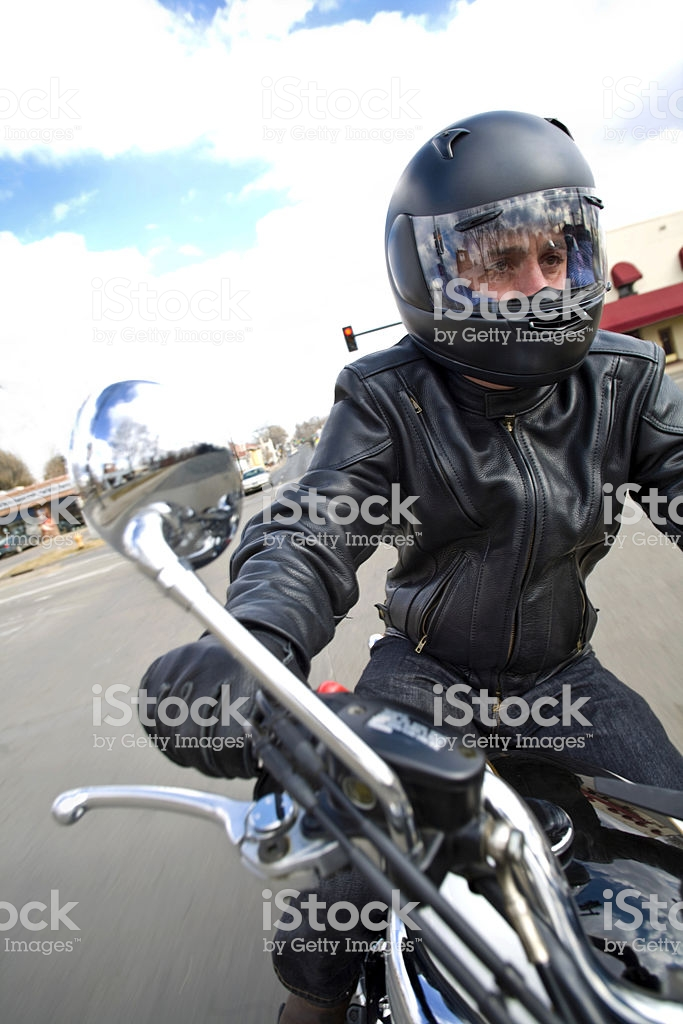helmet: (362, 109, 614, 393)
